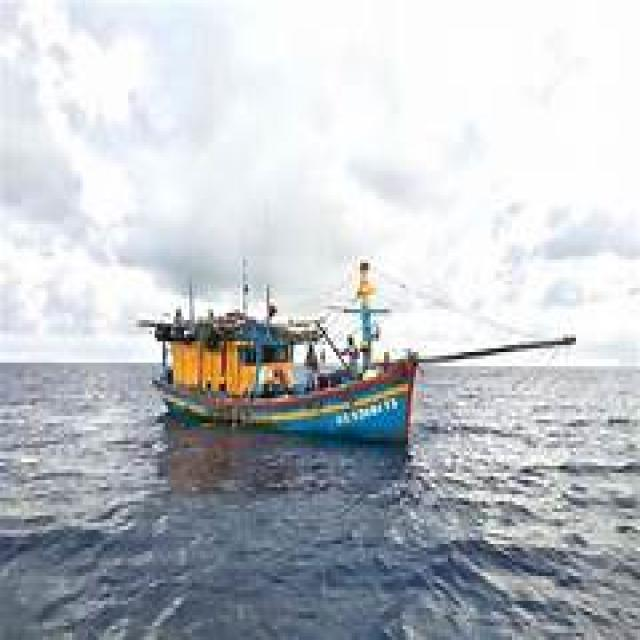Fishing Boat: (110, 145, 367, 407)
